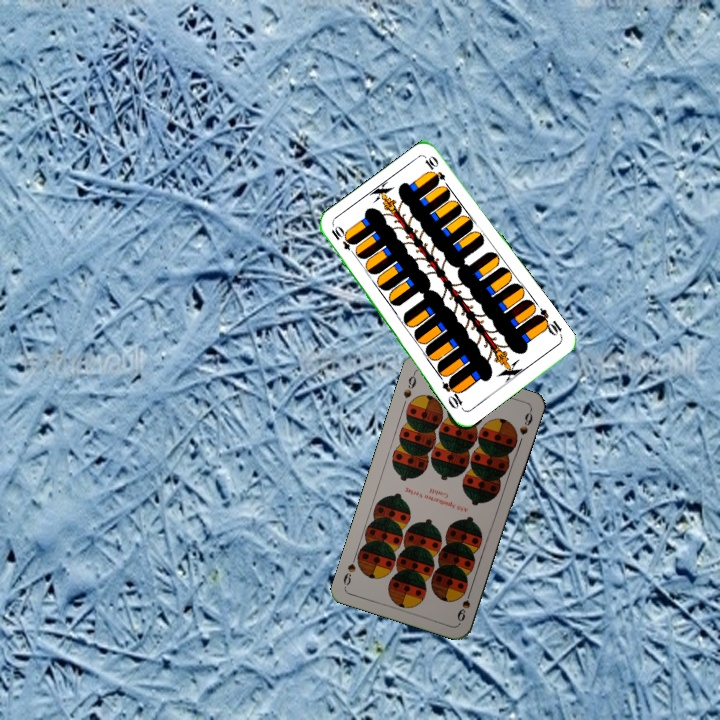E10: (531, 305, 565, 340), (327, 222, 359, 258)
S9: (453, 585, 474, 624), (399, 369, 419, 401)
